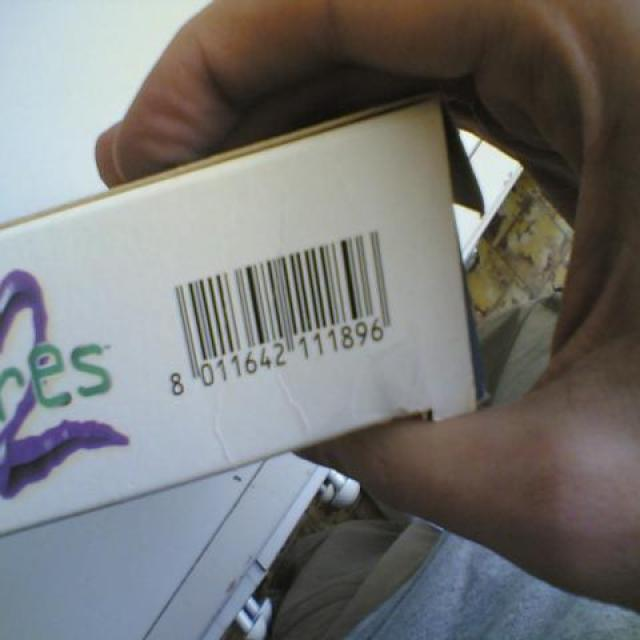Barcode: (124, 207, 436, 404)
